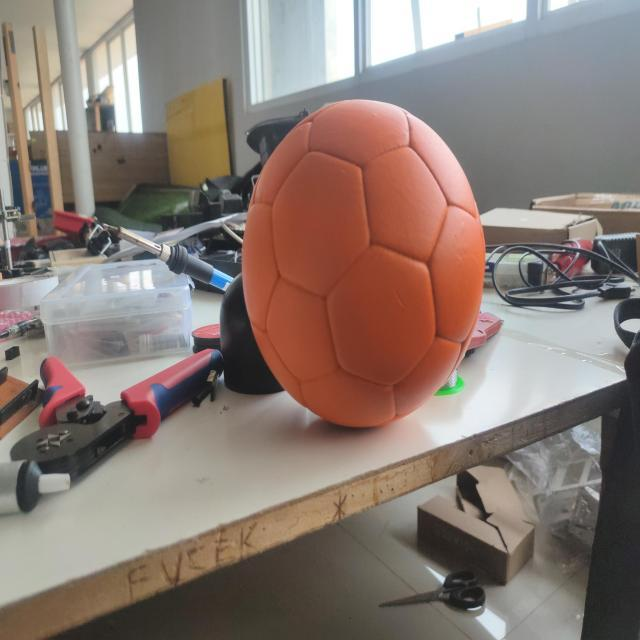bola: (235, 90, 496, 440)
